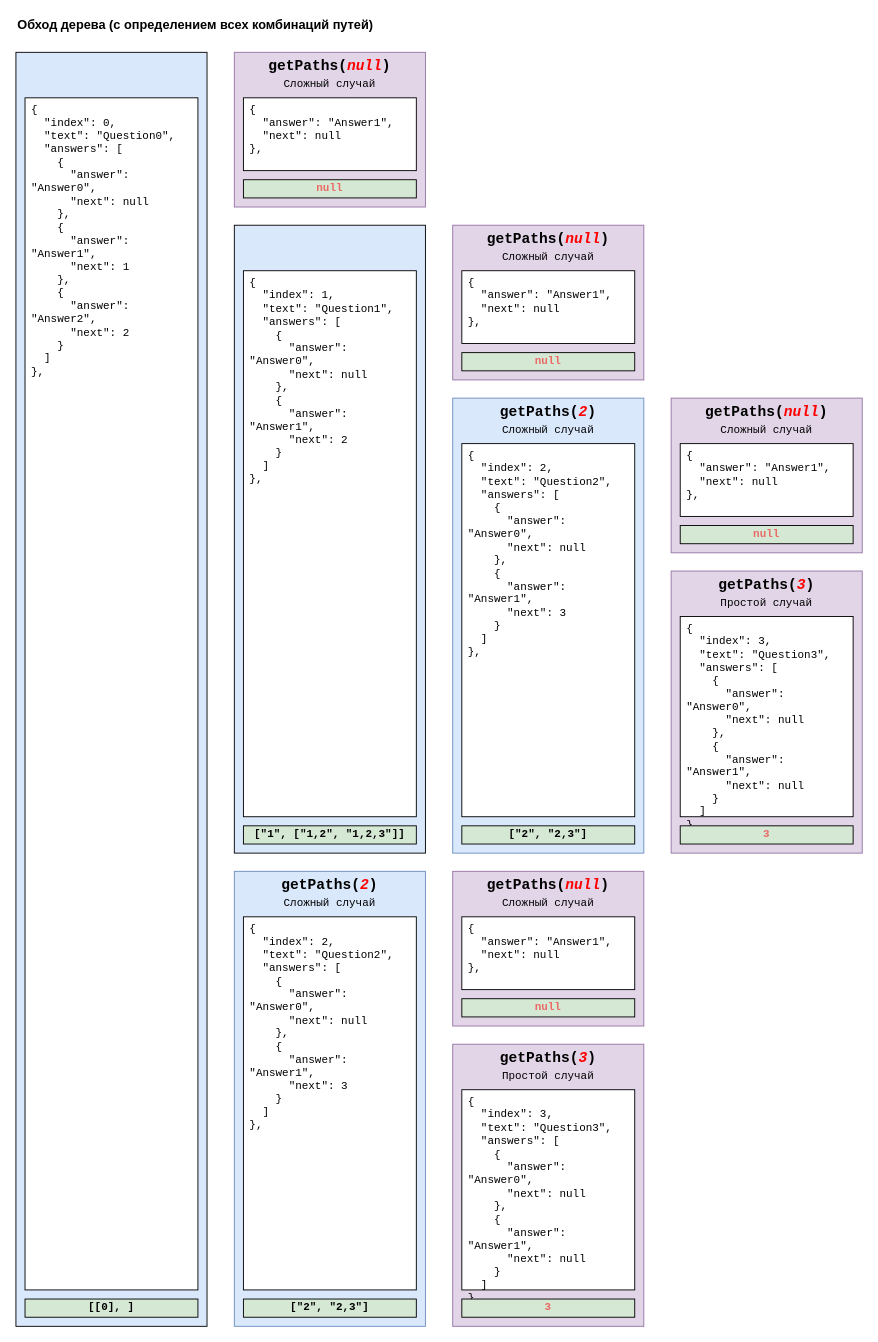
The diagram is 878 pixels wide and 1342 high, and some of its shapes have lost their labels. Here are the shapes that lost their labels. From the top down, the box of each, then its label:
(233, 224, 425, 853): getPaths( 1 ) Сложный случай
(15, 51, 207, 1326): getPaths( 0 ) Сложный случай
